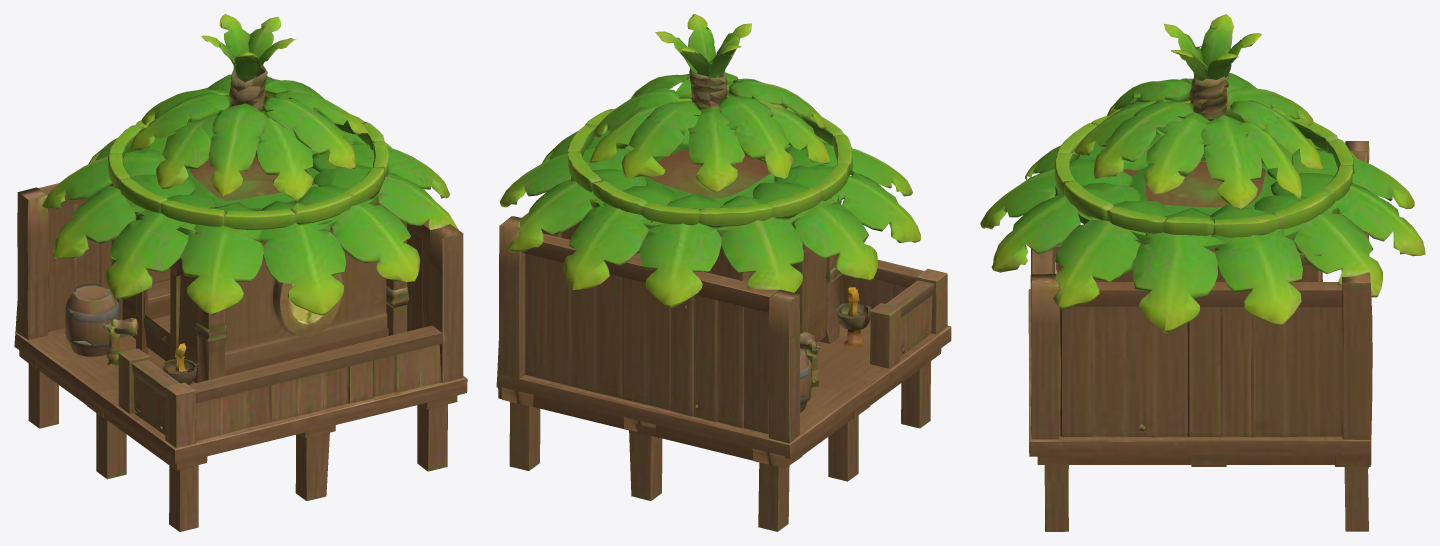
The model's file is playa_taberna.glb.
The picture shows the model from 3 angles, left to right: view 1: azimuth 30°, elevation 25°; view 2: azimuth 150°, elevation 25°; view 3: azimuth 270°, elevation 25°; orthographic projection. The views are drawn at different scales.
Parts seen in each view (by area): view 1: tripo_node_4c0d90dc-e167-45b8-8f50-47de64ea20a2; view 2: tripo_node_4c0d90dc-e167-45b8-8f50-47de64ea20a2; view 3: tripo_node_4c0d90dc-e167-45b8-8f50-47de64ea20a2.
Part boxes in pixels (<box>): tripo_node_4c0d90dc-e167-45b8-8f50-47de64ea20a2: <box>14,14,467,531</box>; tripo_node_4c0d90dc-e167-45b8-8f50-47de64ea20a2: <box>496,14,951,531</box>; tripo_node_4c0d90dc-e167-45b8-8f50-47de64ea20a2: <box>980,14,1425,531</box>.
Bounding box in the file's own units: 0.9234 × 0.998 × 0.9274.
1 material, 1 textured.
